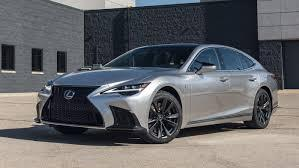lexus: (57, 85, 83, 105)
